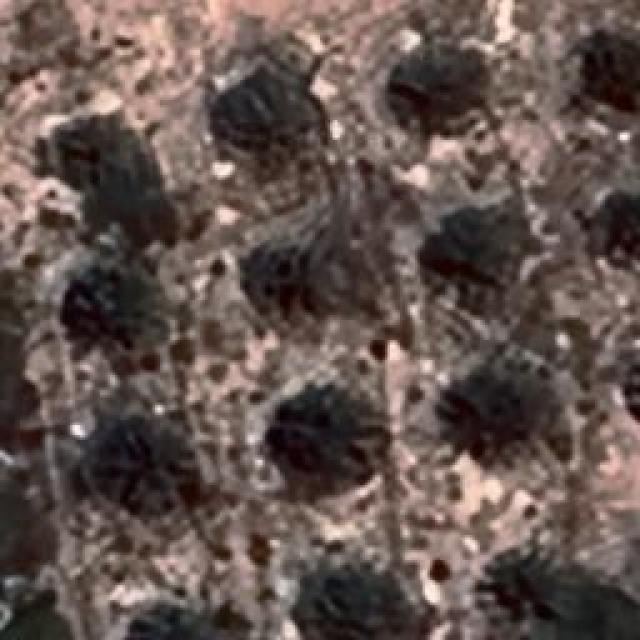PalmTree: (73, 74, 134, 466), (442, 348, 548, 450), (228, 76, 318, 166), (280, 387, 370, 475), (485, 538, 563, 638), (406, 49, 486, 142), (312, 575, 422, 640), (65, 265, 145, 345), (438, 211, 524, 281), (125, 592, 250, 638), (245, 246, 318, 302), (34, 126, 102, 186), (590, 25, 640, 103), (600, 198, 640, 274), (629, 342, 640, 432)
